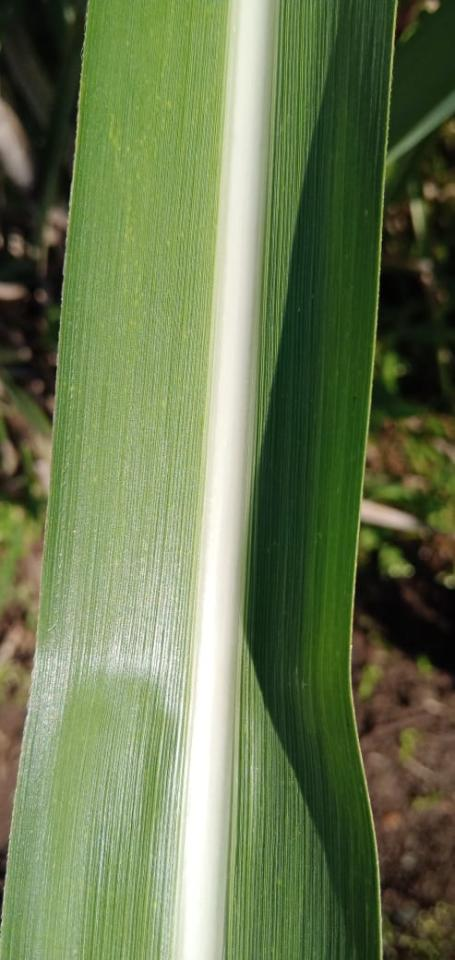Healthy: (1, 0, 395, 959)
